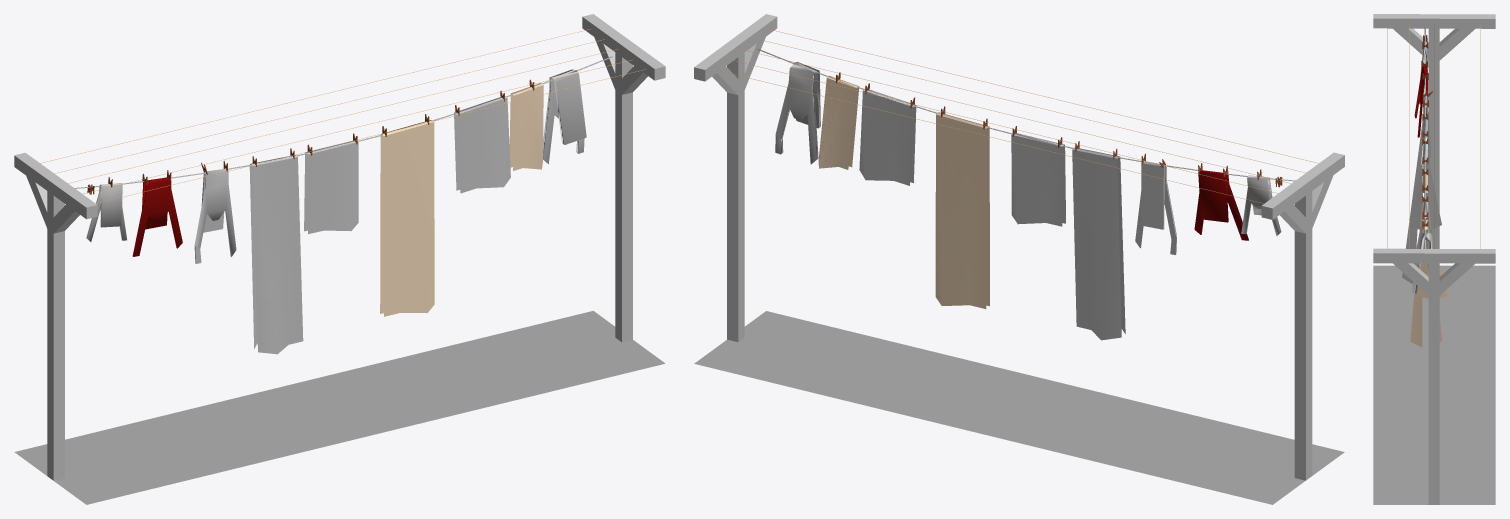
Rendered from tendedero.obj.
3 renders of one model, left to right at view 1: azimuth 30°, elevation 25°; view 2: azimuth 150°, elevation 25°; view 3: azimuth 270°, elevation 25°, orthographic. The views are drawn at different scales.
Visible parts, largest first — view 1: ground_1, 3_3_5, 2_2_8, Left_46, Right_48, 4_4_25, 5_5_19, 8_8_36, Strings_47, 10_10_6, 6_6_26, 7_7_24 (+1 smaller); view 2: ground_1, 3_3_5, 2_2_8, Left_46, Right_48, 4_4_25, 5_5_19, 8_8_36, Strings_47, 10_10_6, 6_6_26, 7_7_24 (+1 smaller); view 3: ground_1, Right_48, Left_46, 5_5_19, 2_2_8, Strings_47, 3_3_5, 7_7_24, 8_8_36, 10_10_6, 4_4_25, 6_6_26 (+1 smaller).
Boxes of the visible parts, <box> form: ground_1: <box>14,310,665,504</box>; 3_3_5: <box>380,120,434,316</box>; 2_2_8: <box>249,155,303,354</box>; Left_46: <box>14,152,97,480</box>; Right_48: <box>582,14,665,342</box>; 4_4_25: <box>454,96,510,193</box>; 5_5_19: <box>304,141,358,234</box>; 8_8_36: <box>509,83,543,170</box>; Strings_47: <box>40,29,645,203</box>; 10_10_6: <box>543,69,586,163</box>; 6_6_26: <box>194,168,236,263</box>; 7_7_24: <box>132,177,182,256</box>; ground_1: <box>694,311,1344,504</box>; 3_3_5: <box>935,112,989,308</box>; 2_2_8: <box>1072,147,1125,340</box>; Left_46: <box>1261,152,1344,480</box>; Right_48: <box>694,14,777,341</box>; 4_4_25: <box>859,89,916,185</box>; 5_5_19: <box>1011,133,1065,226</box>; 8_8_36: <box>818,75,859,169</box>; Strings_47: <box>714,29,1318,203</box>; 10_10_6: <box>775,62,820,164</box>; 6_6_26: <box>1135,161,1176,254</box>; 7_7_24: <box>1194,170,1248,240</box>; ground_1: <box>1373,265,1495,504</box>; Right_48: <box>1373,248,1495,504</box>; Left_46: <box>1373,14,1495,248</box>; 5_5_19: <box>1410,143,1441,229</box>; 2_2_8: <box>1402,118,1432,284</box>; Strings_47: <box>1387,24,1480,248</box>; 3_3_5: <box>1410,174,1441,347</box>; 7_7_24: <box>1414,65,1428,137</box>; 8_8_36: <box>1417,220,1449,298</box>; 10_10_6: <box>1412,232,1433,293</box>; 4_4_25: <box>1410,201,1434,283</box>; 6_6_26: <box>1423,95,1430,171</box>.
Bounding box in the file's own units: 417 × 204 × 90.1.
